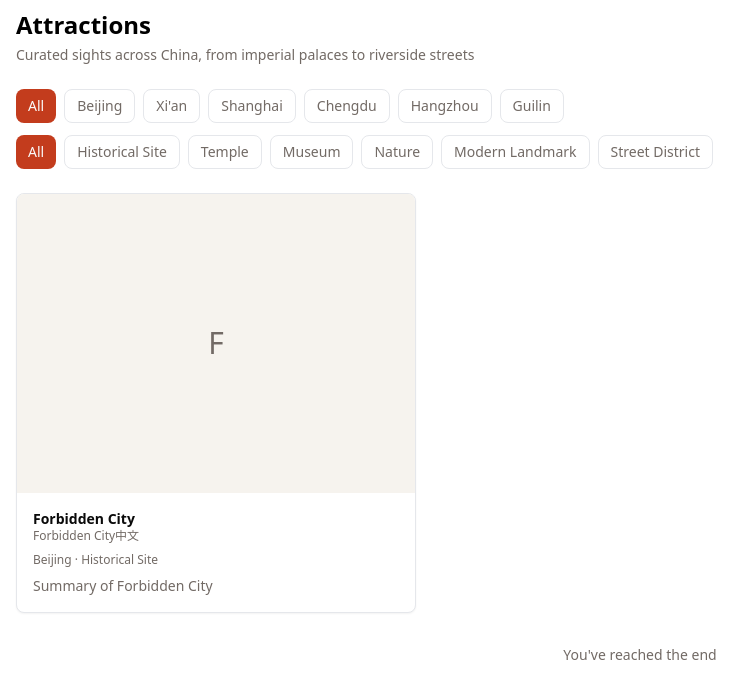
AttractionsPage › combines city and category filters
expect the heading "Forbidden City" is shown: met, box [33, 508, 139, 528]
Click the button "Beijing" at (100,106), box [64, 89, 135, 123]
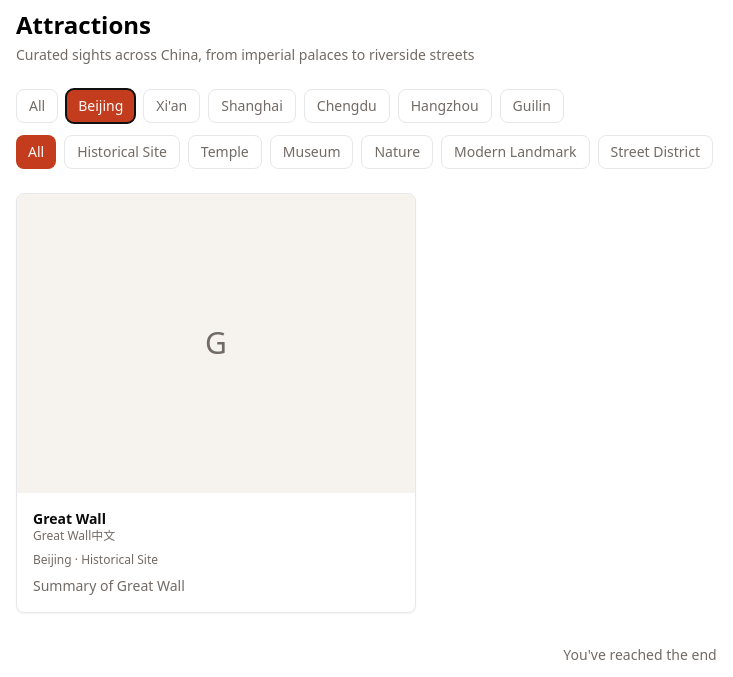
expect the heading "Great Wall" is shown: met, box [33, 508, 115, 528]
Click the button "Museum" at (312,152), box [270, 135, 354, 169]
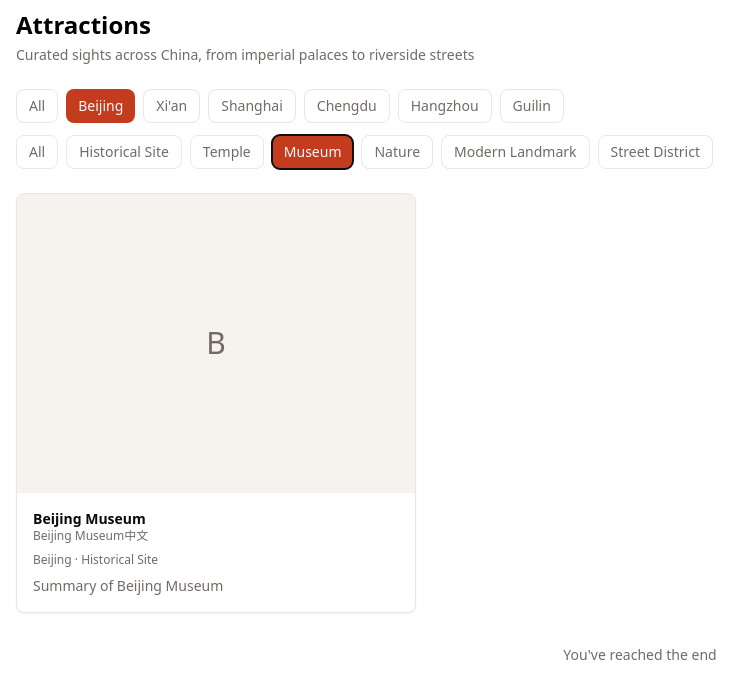
expect the heading "Beijing Museum" is shown: met, box [33, 508, 148, 528]
